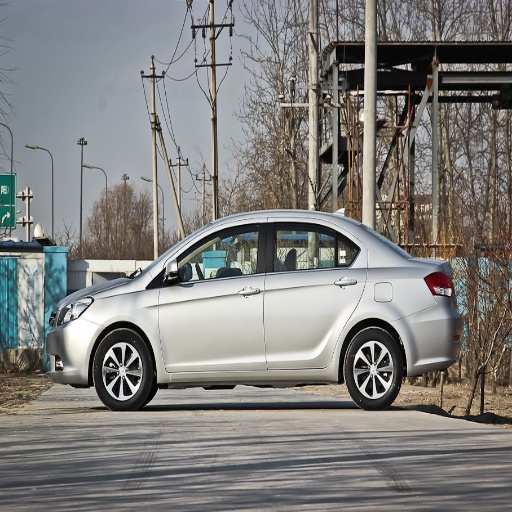back_left_door: (263, 219, 366, 367)
front_left_door: (159, 220, 268, 371)
